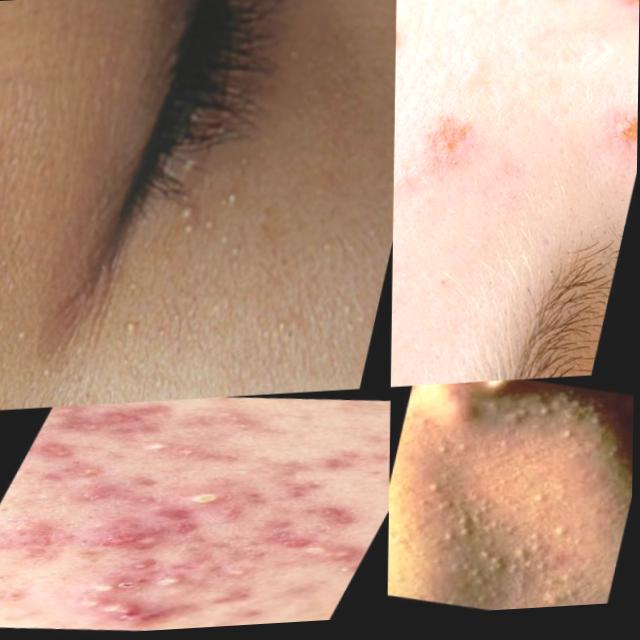7: (106, 301, 178, 371), (167, 196, 209, 253), (0, 313, 51, 352), (278, 34, 316, 79), (118, 255, 157, 298), (210, 229, 249, 268), (170, 145, 204, 183), (311, 229, 341, 271), (213, 181, 246, 217), (270, 306, 296, 340), (29, 361, 65, 385), (197, 214, 223, 242)
9: (176, 486, 240, 512), (77, 580, 132, 599), (144, 573, 200, 591), (140, 438, 179, 456), (171, 444, 208, 461)
blackheads: (72, 592, 183, 630), (101, 529, 189, 558), (291, 543, 367, 572), (93, 402, 162, 433), (258, 528, 322, 554), (150, 504, 210, 529), (35, 438, 93, 459), (284, 480, 334, 504), (162, 559, 217, 577), (22, 534, 65, 549)
dark spot: (472, 511, 522, 585), (509, 532, 552, 580), (538, 572, 573, 615), (549, 520, 576, 545), (533, 492, 556, 516)
